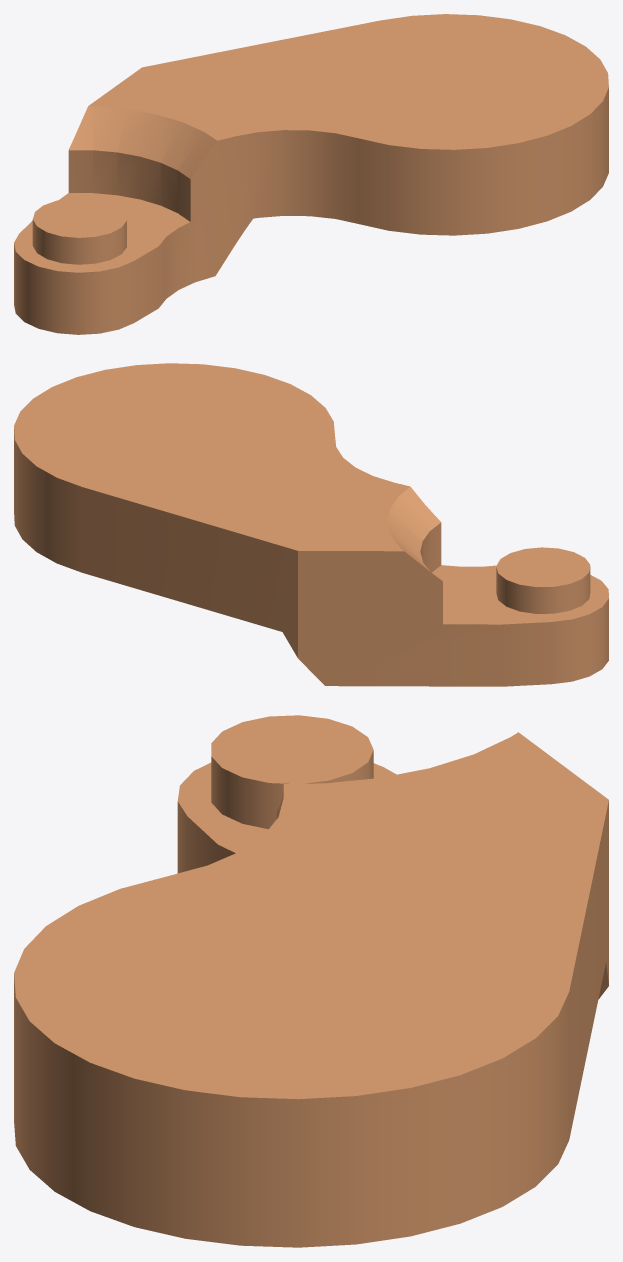
The model's file is link_lever_a.dae.
The picture shows the model from 3 angles, top to bottom: view 1: azimuth 30°, elevation 25°; view 2: azimuth 150°, elevation 25°; view 3: azimuth 270°, elevation 25°; orthographic projection. The views are drawn at different scales.
Parts seen in each view (by area): view 1: IRB2400_16_m2000_rev4_01-3; view 2: IRB2400_16_m2000_rev4_01-3; view 3: IRB2400_16_m2000_rev4_01-3.
Part boxes in pixels (bbox=[...]): IRB2400_16_m2000_rev4_01-3: bbox=[14, 14, 608, 334]; IRB2400_16_m2000_rev4_01-3: bbox=[14, 363, 608, 686]; IRB2400_16_m2000_rev4_01-3: bbox=[14, 715, 608, 1247].
Size of the model in its own units: 0.2759 by 0.063 by 0.1453.
